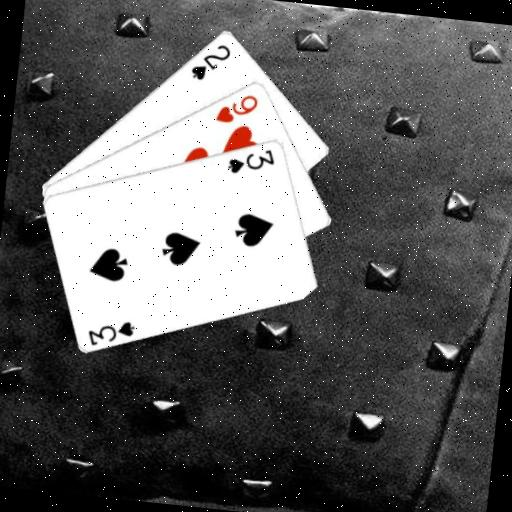2S: (187, 38, 233, 85)
3S: (224, 142, 278, 180), (84, 313, 138, 350)
9H: (212, 87, 261, 127)
